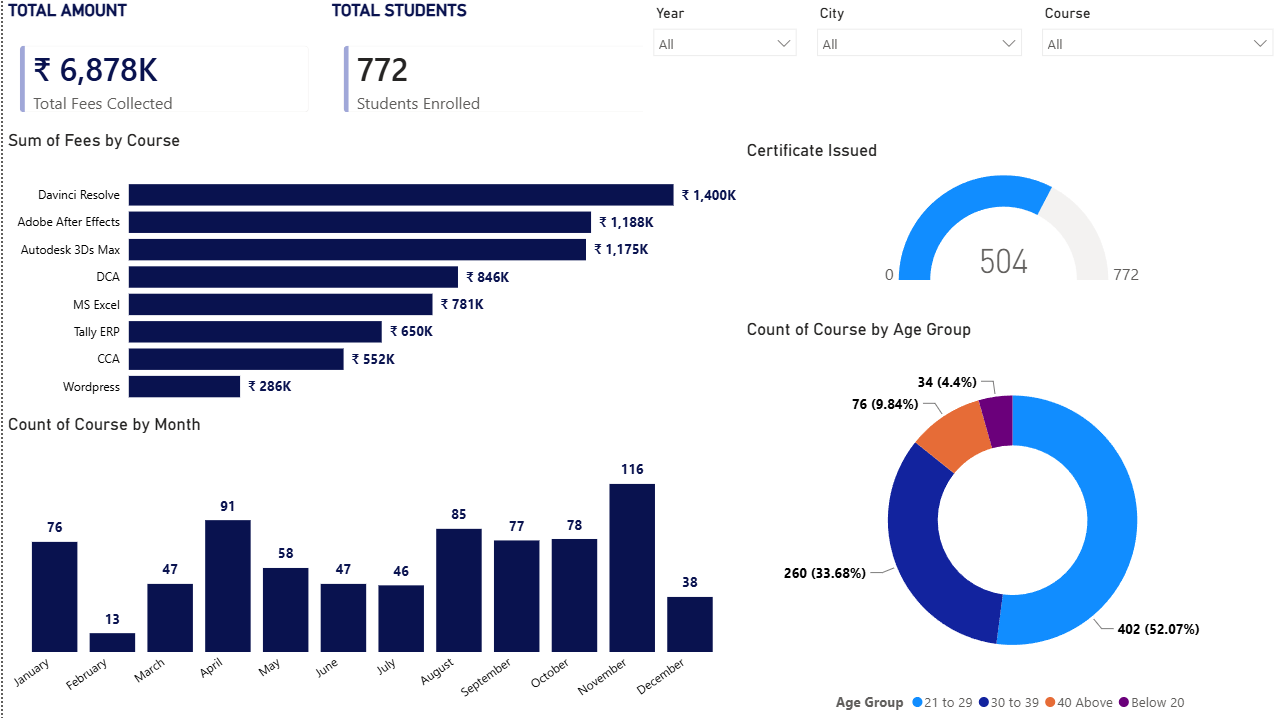

This screenshot's page, from the dashboard's own definition file:
{"tool":"powerbi","page":{"name":"ABC inst report","canvas":[1280,720],"ordinal":0},"visuals":[{"type":"clusteredColumnChart","fields":{"Category":["Student Course Details.Date of Join.Variation.Date Hierarchy.Month"],"Y":["CountNonNull(Student Course Details.Course)"]},"box":[0,413.8,738.8,306.2],"z":0},{"type":"donutChart","fields":{"Y":["CountNonNull(Student Course Details.Course)"],"Category":["Student Course Details.Age Group"]},"box":[738.3,318.4,542,402.1],"z":1000},{"type":"clusteredBarChart","fields":{"Category":["Student Course Details.Course"],"Y":["Sum(Student Course Details.Fees)"]},"box":[0,130,738.8,283.8],"z":2000},{"type":"cardVisual","title":"TOTAL AMOUNT","fields":{"Data":["Sum(Student Course Details.Fees)"]},"box":[0,0,323.8,130],"z":3000},{"type":"cardVisual","title":"TOTAL STUDENTS","fields":{"Data":["Count(Personal Details.Student Name)"]},"box":[323.8,0,413.8,130],"z":4000},{"type":"gauge","title":"Certificate Issued","fields":{"Y":["Personal Details.CountYes"]},"box":[738.8,140,541.2,150],"z":5000},{"type":"slicer","fields":{"Values":["Student Course Details.Date of Join.Variation.Date Hierarchy.Year"]},"box":[640,0,163.8,130],"z":6000},{"type":"slicer","fields":{"Values":["Personal Details.City"]},"box":[803.8,0,225,130],"z":7000},{"type":"slicer","fields":{"Values":["Student Course Details.Course"]},"box":[1028.8,0,251.2,130],"z":8000}]}

Visuals, with their boxes in screenshot pixels (x1, y1, x2, y2), scaled from the page's 1280x720 canvas onto the 1283x718 screenshot:
clusteredColumnChart - Student Course Details.Date of Join.Variation.Date Hierarchy.Month x CountNonNull(Student Course Details.Course): pyautogui.locateOnScreen(0, 413, 741, 717)
donutChart - CountNonNull(Student Course Details.Course) x Student Course Details.Age Group: pyautogui.locateOnScreen(740, 318, 1282, 717)
clusteredBarChart - Student Course Details.Course x Sum(Student Course Details.Fees): pyautogui.locateOnScreen(0, 130, 741, 413)
"TOTAL AMOUNT" cardVisual: pyautogui.locateOnScreen(0, 0, 325, 130)
"TOTAL STUDENTS" cardVisual: pyautogui.locateOnScreen(325, 0, 739, 130)
"Certificate Issued" gauge: pyautogui.locateOnScreen(741, 140, 1282, 289)
slicer - Student Course Details.Date of Join.Variation.Date Hierarchy.Year: pyautogui.locateOnScreen(642, 0, 806, 130)
slicer - Personal Details.City: pyautogui.locateOnScreen(806, 0, 1031, 130)
slicer - Student Course Details.Course: pyautogui.locateOnScreen(1031, 0, 1282, 130)
